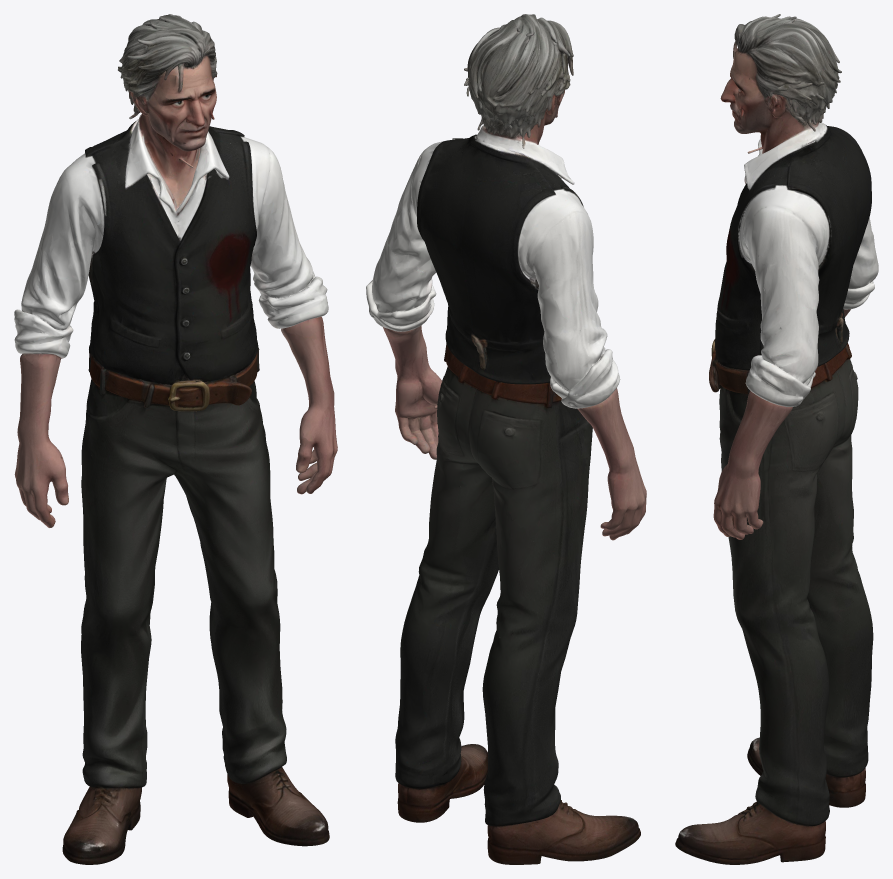
The model's file is dante_dambrosio.glb.
3 renders of one model, left to right at view 1: azimuth 30°, elevation 25°; view 2: azimuth 150°, elevation 25°; view 3: azimuth 270°, elevation 25°, orthographic. The views are drawn at different scales.
Visible parts, largest first — view 1: Mesh_0; view 2: Mesh_0; view 3: Mesh_0.
Part boxes in pixels (x1=…): Mesh_0: x1=14, y1=14, x2=337, y2=864; Mesh_0: x1=366, y1=14, x2=646, y2=864; Mesh_0: x1=675, y1=14, x2=878, y2=864.
Bounding box in the file's own units: 0.7014 × 1.9 × 0.4445.
Materials: 1 (1 with a texture image).
